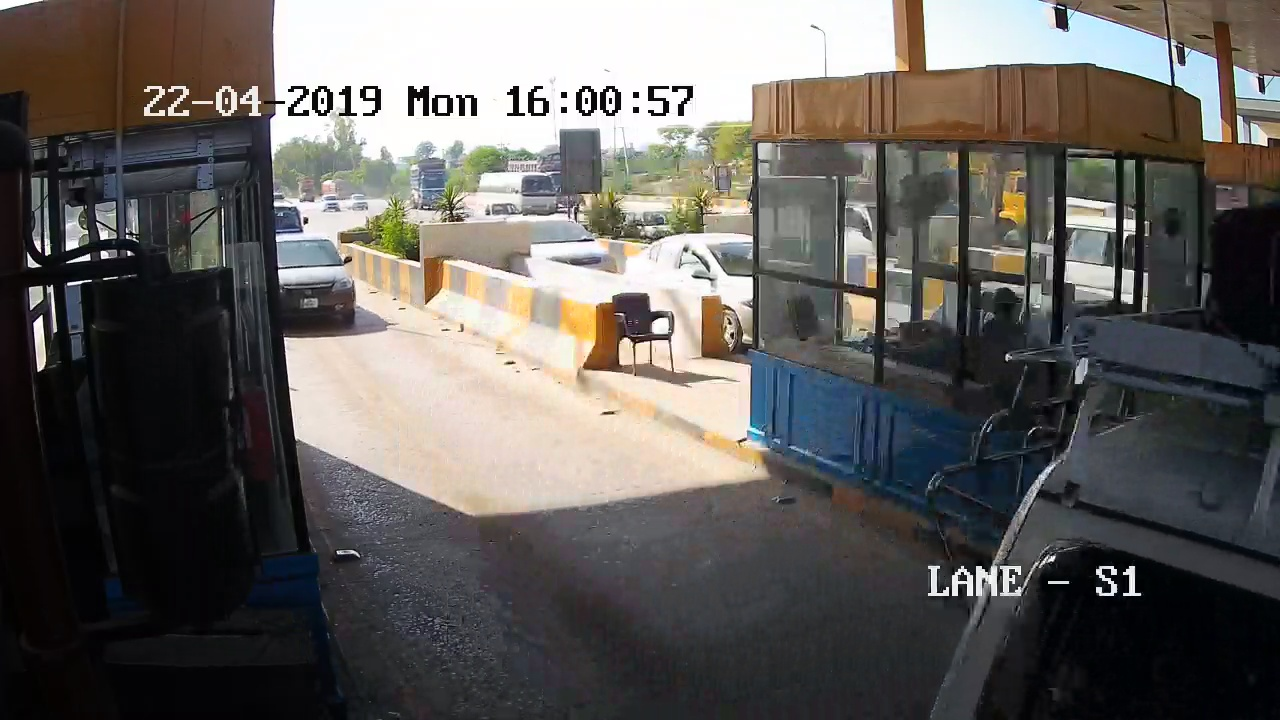car: (269, 231, 371, 344)
